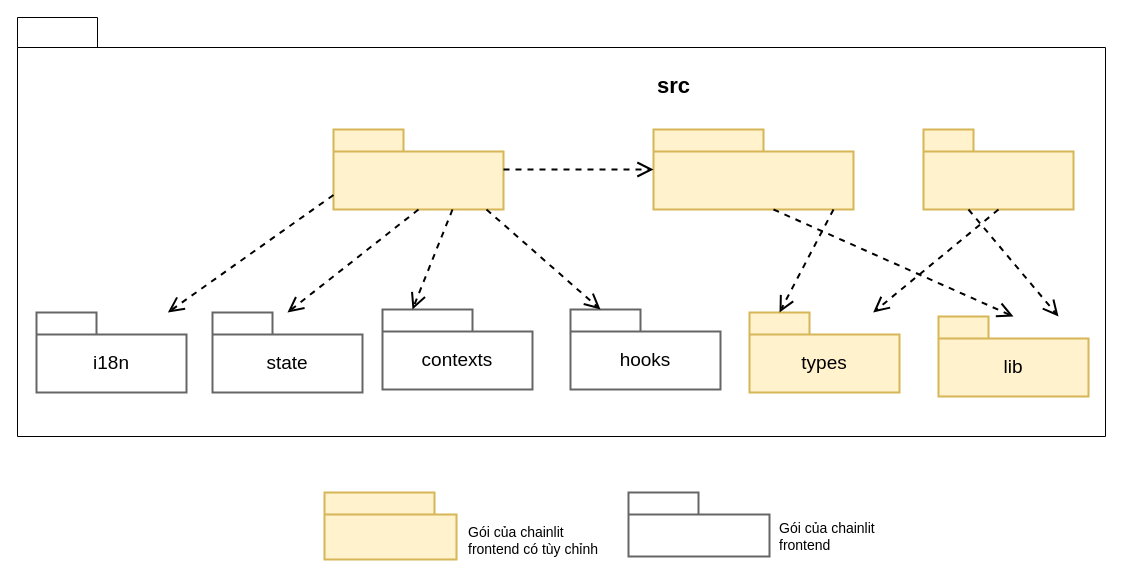
This 1123x578 diagram has some shape labels left out. Each missing label, with the box of its shape:
api: (922, 128, 1074, 210)
components: (652, 128, 854, 210)
pages: (332, 128, 504, 210)
